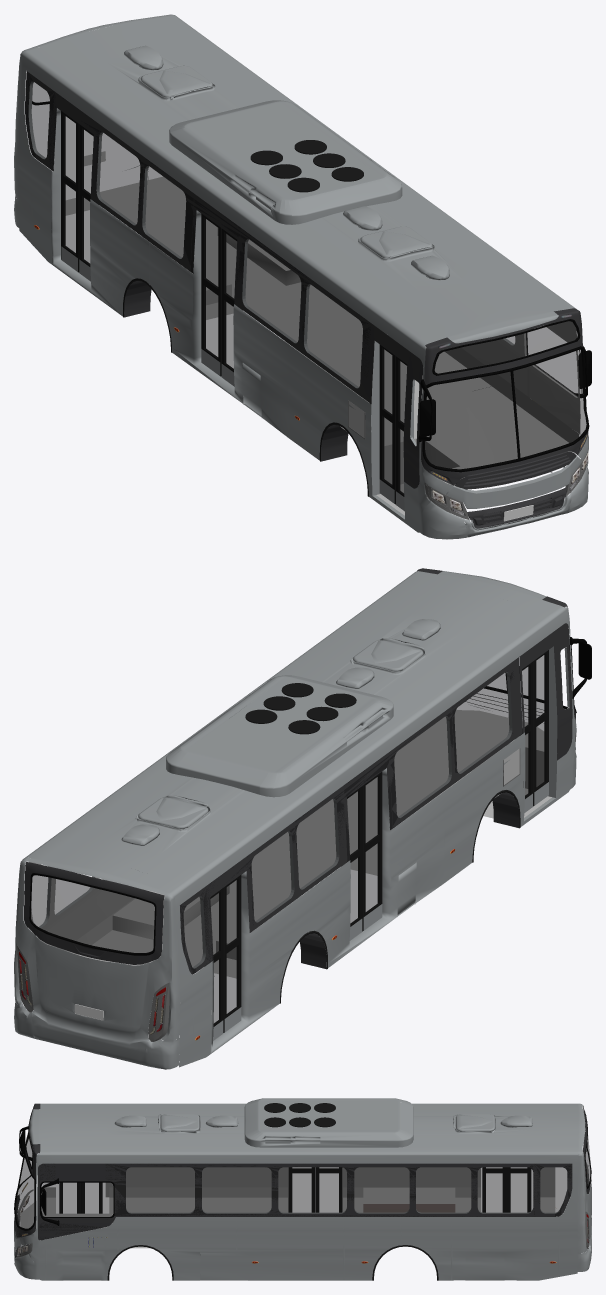
The model's file is onibus_apache.glb.
The picture shows the model from 3 angles, top to bottom: view 1: azimuth 30°, elevation 25°; view 2: azimuth 150°, elevation 25°; view 3: azimuth 270°, elevation 25°; orthographic projection. The views are drawn at different scales.
Visible parts, largest first — view 1: veiculo; view 2: veiculo; view 3: veiculo.
Part boxes in pixels (x1,y1,x2,y2): veiculo: (14,14,591,539); veiculo: (14,568,591,1069); veiculo: (14,1098,591,1280).
Size of the model in its own units: 3.03 by 3.18 by 12.
14 materials, 10 textured.
